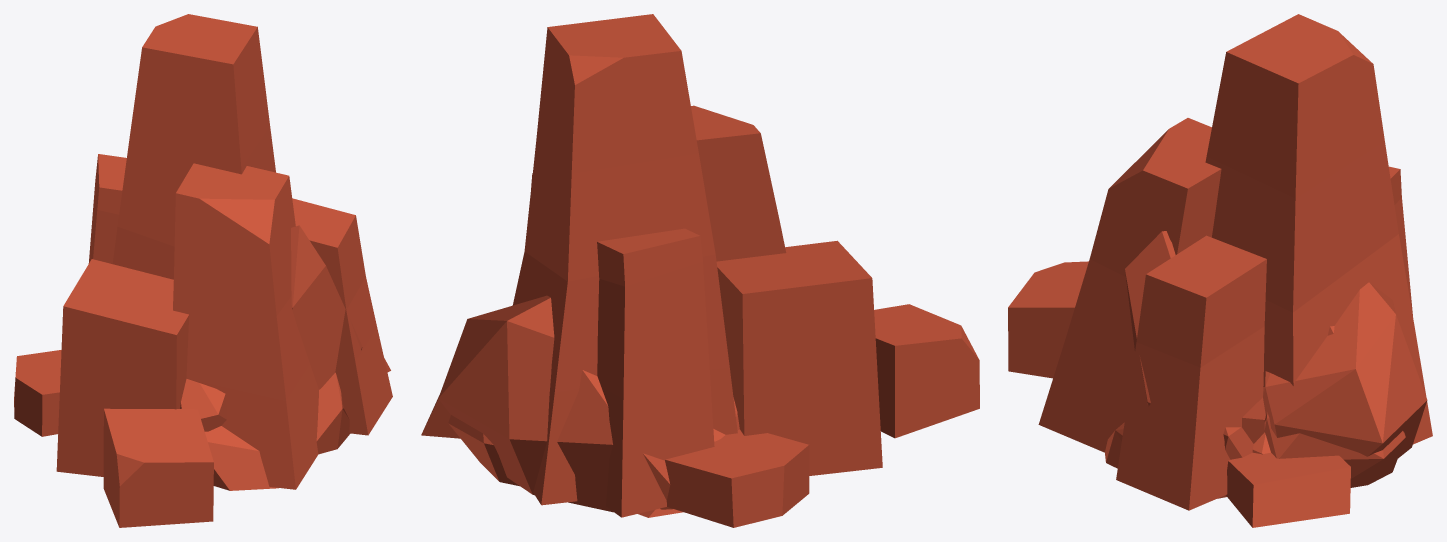
File: Stones.fbx
The picture shows the model from 3 angles, left to right: view 1: azimuth 30°, elevation 25°; view 2: azimuth 150°, elevation 25°; view 3: azimuth 270°, elevation 25°; orthographic projection. The views are drawn at different scales.
Visible parts, largest first — view 1: Stones; view 2: Stones; view 3: Stones.
Part boxes in pixels (x1=…): Stones: x1=14, y1=14, x2=392, y2=527; Stones: x1=421, y1=14, x2=979, y2=527; Stones: x1=1008, y1=14, x2=1432, y2=527.
Size of the model in its own units: 103 by 98.72 by 95.12.
Materials: 1 (1 with a texture image).
